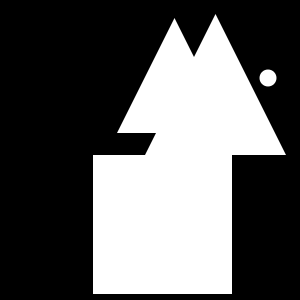circle: (93, 155, 232, 294)
rectangle: (260, 70, 276, 86)
triangle: (145, 14, 286, 155), (117, 18, 232, 133), (139, 54, 190, 105)
